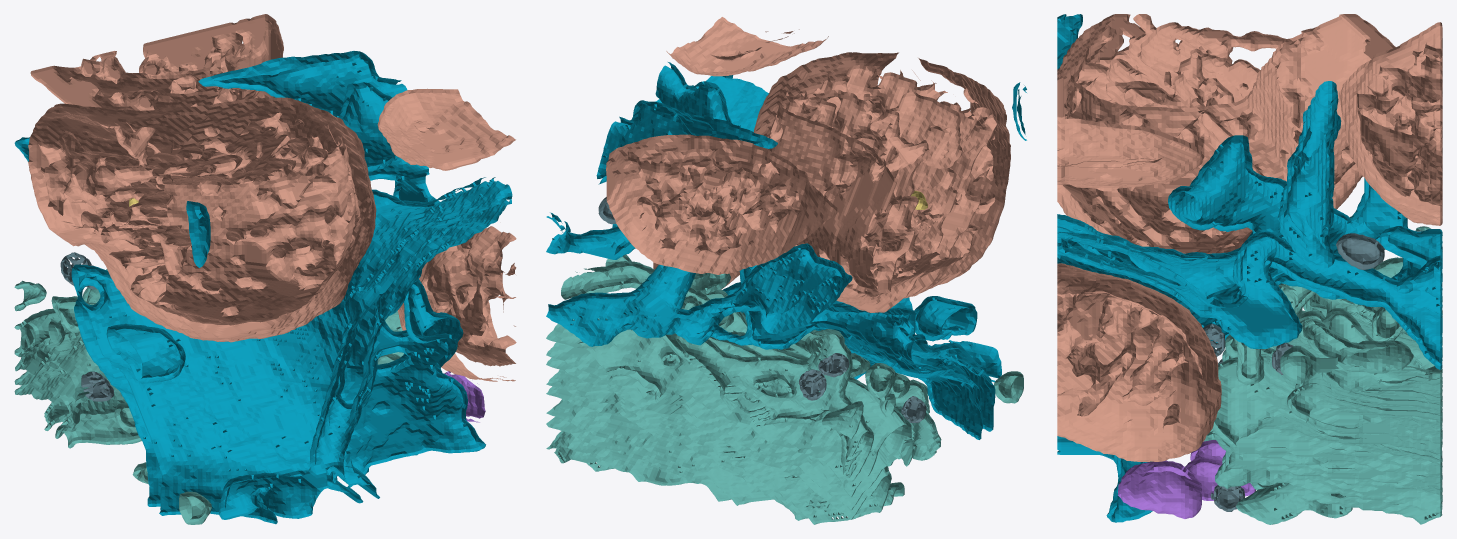
The model's file is hero-vessel.glb.
3 views of the same model, side by side, from view 1: azimuth 30°, elevation 25°; view 2: azimuth 150°, elevation 25°; view 3: azimuth 270°, elevation 25° (orthographic). The views are drawn at different scales.
Visible parts, largest first — view 1: jrc_mus-kidney_crop164_gt_clean_membranes.ply; view 2: jrc_mus-kidney_crop164_gt_clean_membranes.ply; view 3: jrc_mus-kidney_crop164_gt_clean_membranes.ply.
Boxes of the visible parts, bbox=[...] form: jrc_mus-kidney_crop164_gt_clean_membranes.ply: bbox=[14, 14, 516, 524]; jrc_mus-kidney_crop164_gt_clean_membranes.ply: bbox=[546, 17, 1026, 524]; jrc_mus-kidney_crop164_gt_clean_membranes.ply: bbox=[1057, 14, 1442, 524].
Bounding box in the file's own units: 797 × 797 × 797.
